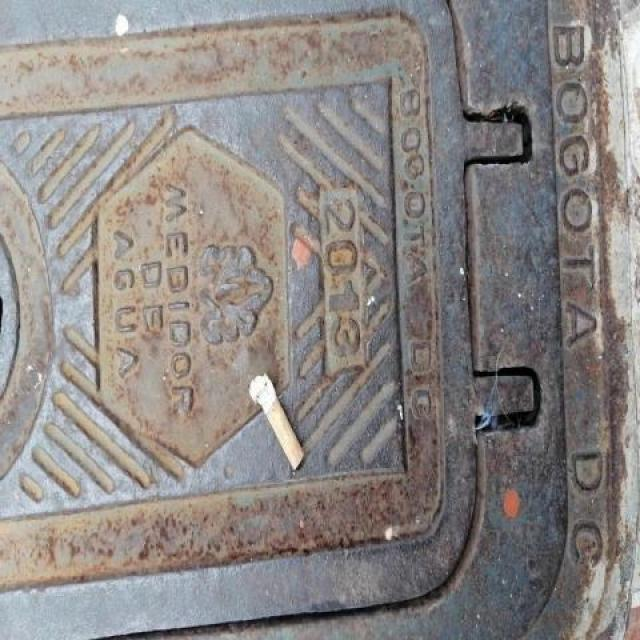non-organic waste: (246, 368, 307, 476)
